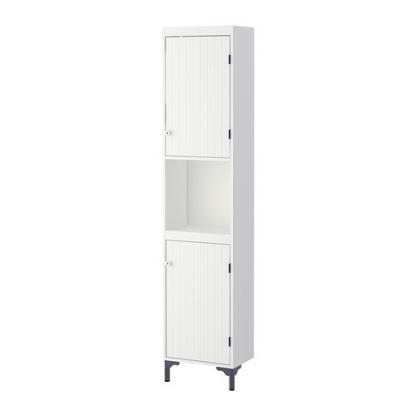Cabinet: (159, 22, 260, 394)
